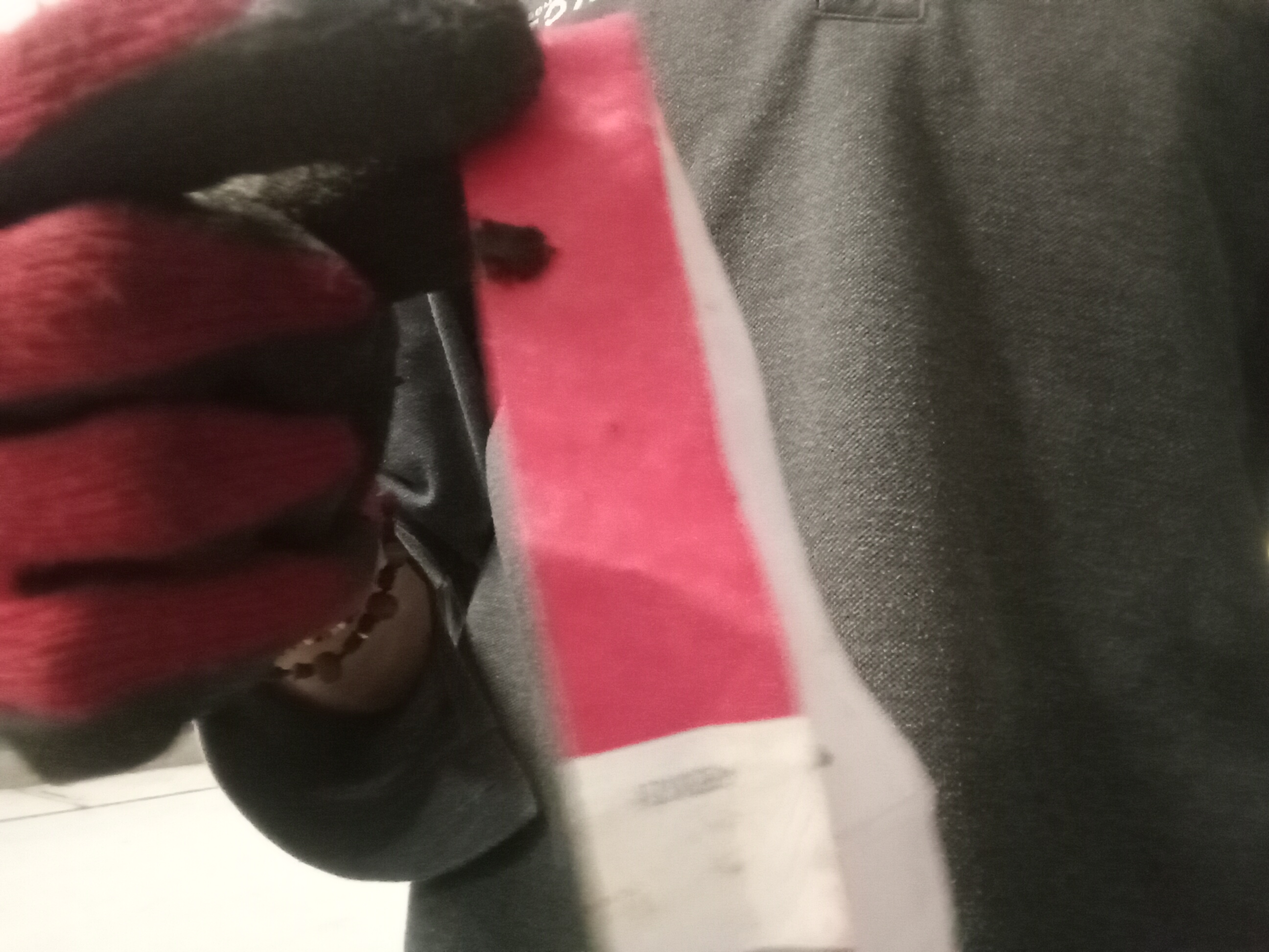Ordinario: (457, 9, 954, 952)
